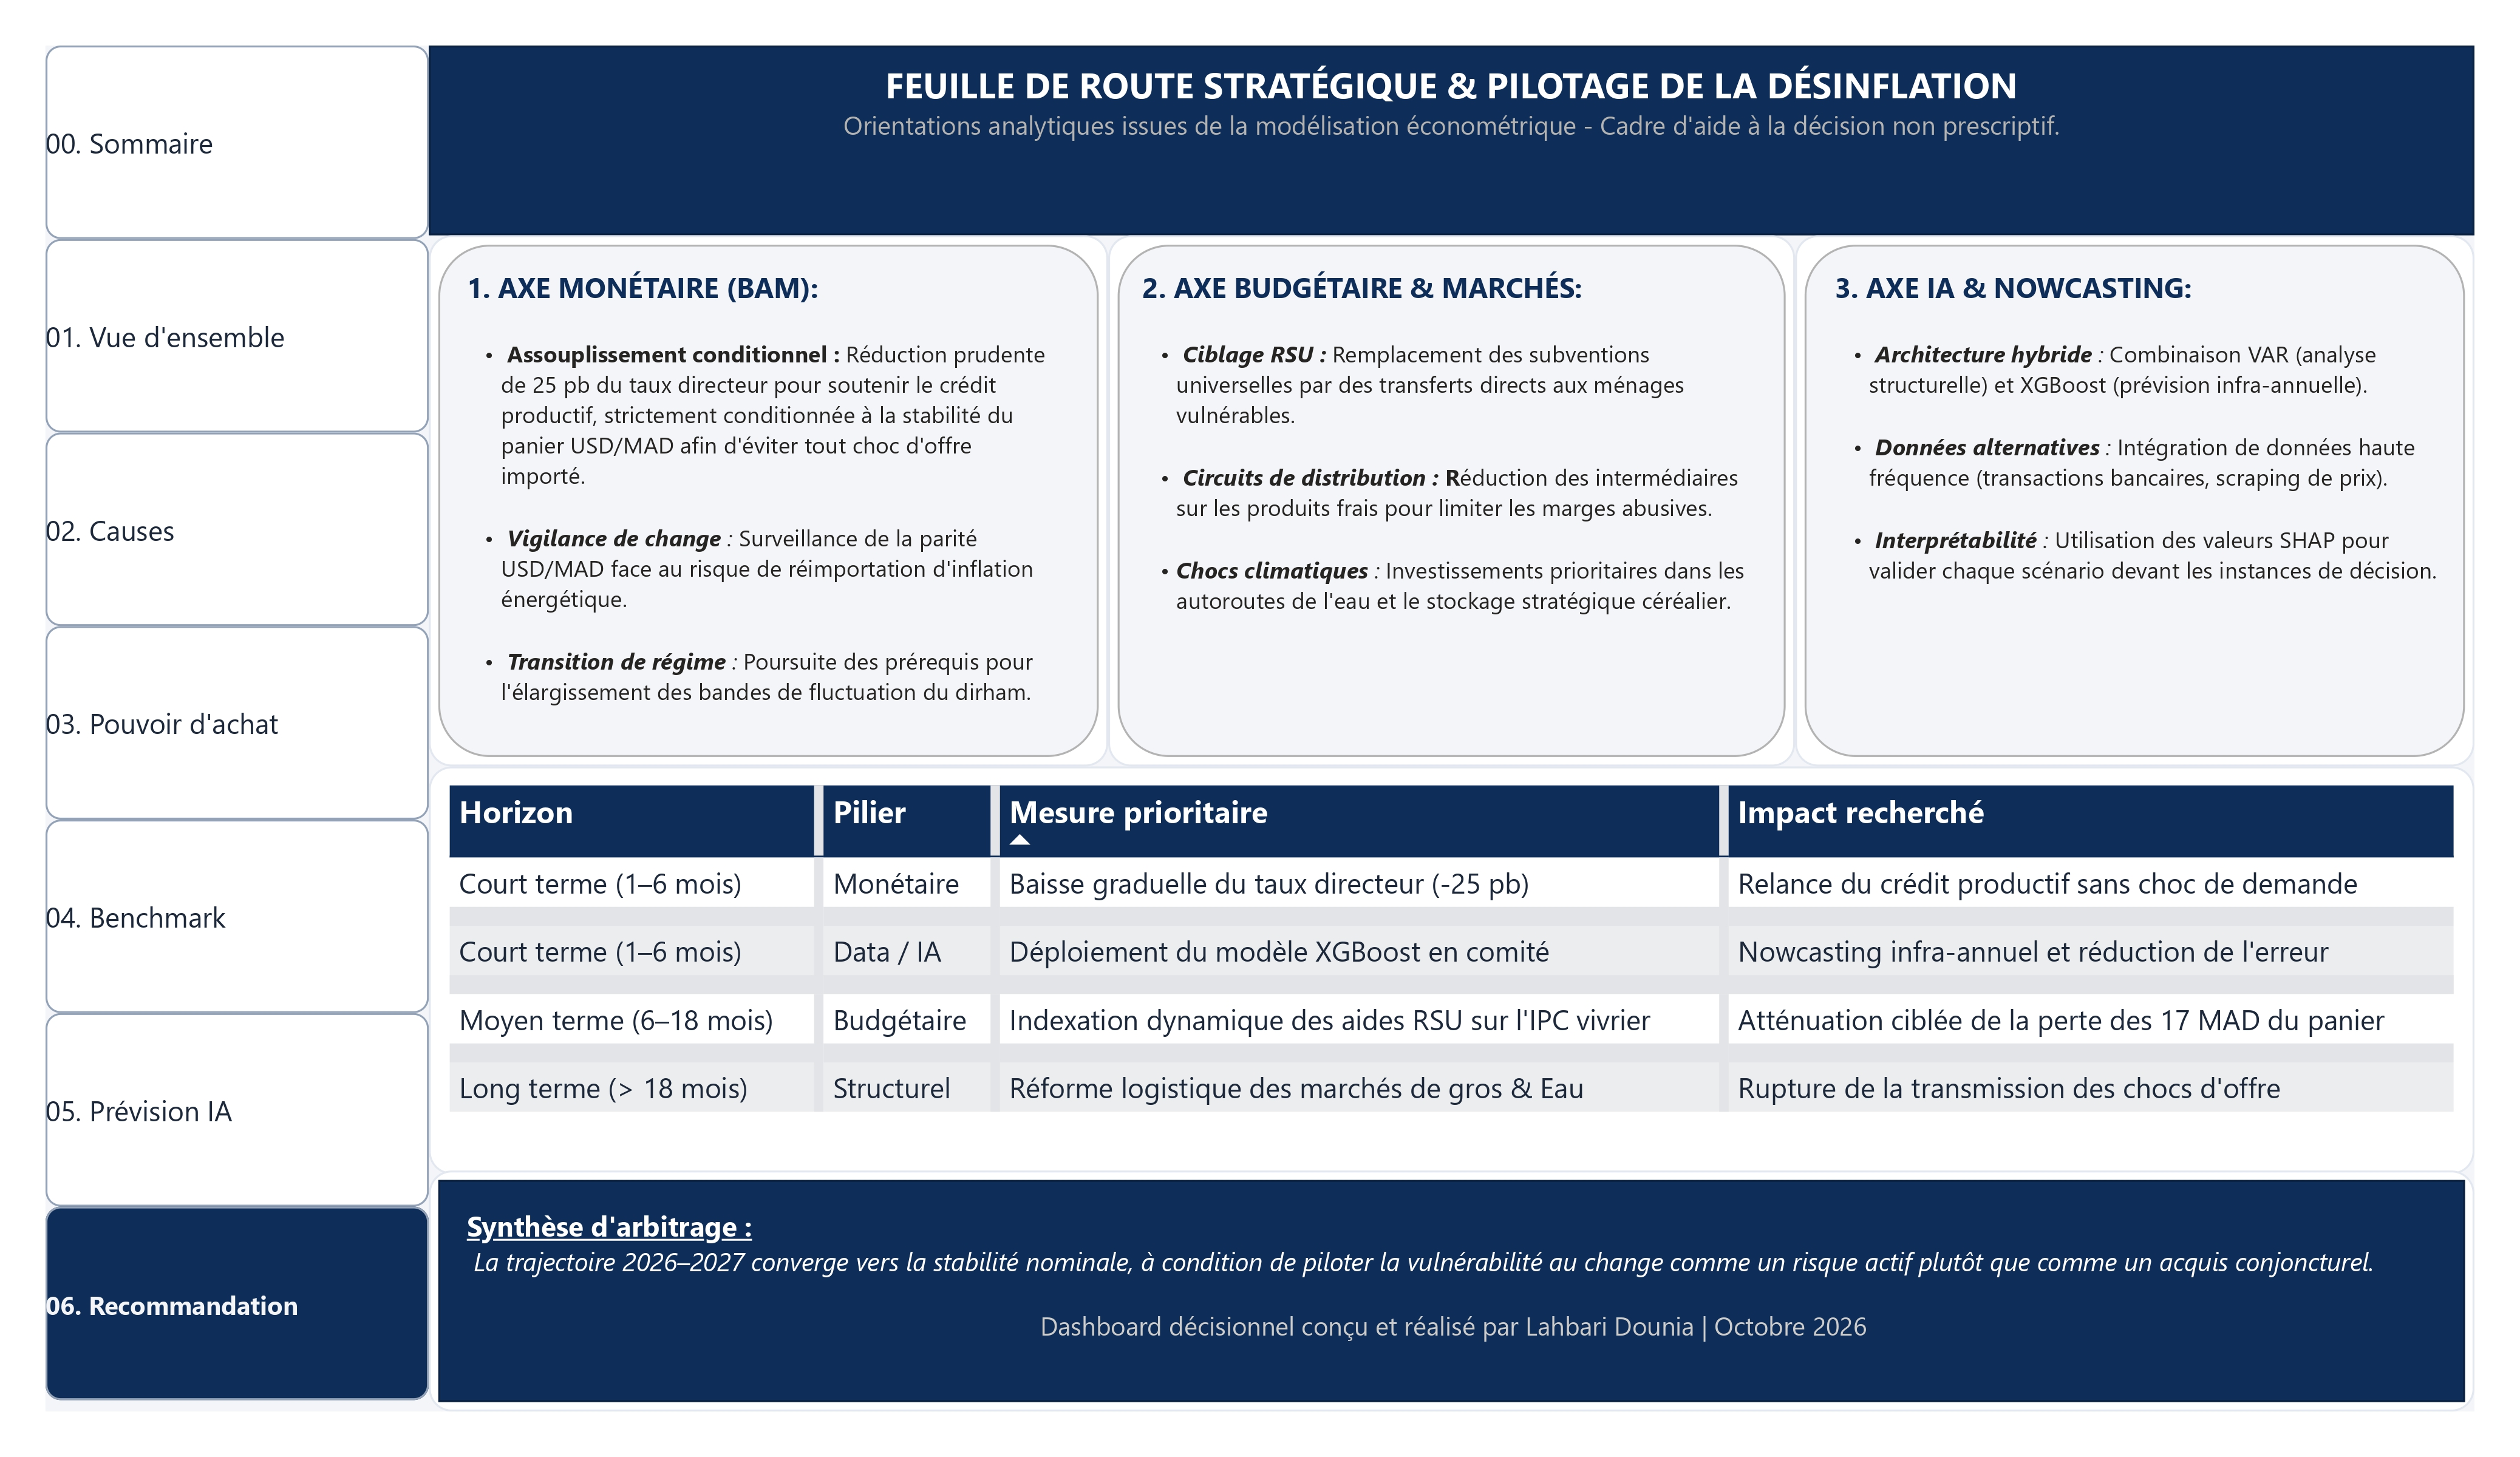

The dashboard page shown, as its layout file describes it:
{"tool":"powerbi","page":{"name":" 06. Recommandation","canvas":[1280,720],"ordinal":6},"visuals":[{"type":"pageNavigator","box":[0,0,201.9,719.2],"z":0},{"type":"shape","box":[201.7,0,1078.3,100],"z":1},{"type":"textbox","box":[201.7,3.3,1078.3,93.3],"z":2},{"type":"shape","box":[201.7,100,358.3,280],"z":3},{"type":"shape","box":[560,100,361.7,280],"z":4},{"type":"shape","box":[921.7,100,358.3,280],"z":5},{"type":"textbox","box":[216.7,111.7,321.7,268.3],"z":6},{"type":"textbox","box":[573.3,111.7,328.3,233.3],"z":7},{"type":"textbox","box":[938.3,111.7,328.3,233.3],"z":8},{"type":"tableEx","fields":{"Values":["Matrice_Recommandations.Horizon","Matrice_Recommandations.Pilier","Matrice_Recommandations.Mesure prioritaire","Matrice_Recommandations.Impact recherché"]},"box":[201.7,380,1078.3,215],"z":9},{"type":"shape","box":[201.7,593.3,1078.3,126.7],"z":11},{"type":"textbox","box":[216.7,606.7,1050,98.3],"z":12}]}

Visuals, with their boxes on the page's 1280x720 design canvas (x1, y1, x2, y2). These are canvas units, not pixel positions in the 2520x1457 screenshot, which may show the page scaled, cropped or inside an application window:
pageNavigator: <box>0,0,202,719</box>
shape: <box>202,0,1280,100</box>
textbox: <box>202,3,1280,97</box>
shape: <box>202,100,560,380</box>
shape: <box>560,100,922,380</box>
shape: <box>922,100,1280,380</box>
textbox: <box>217,112,538,380</box>
textbox: <box>573,112,902,345</box>
textbox: <box>938,112,1267,345</box>
tableEx - Matrice_Recommandations.Horizon x Matrice_Recommandations.Pilier: <box>202,380,1280,595</box>
shape: <box>202,593,1280,720</box>
textbox: <box>217,607,1267,705</box>
